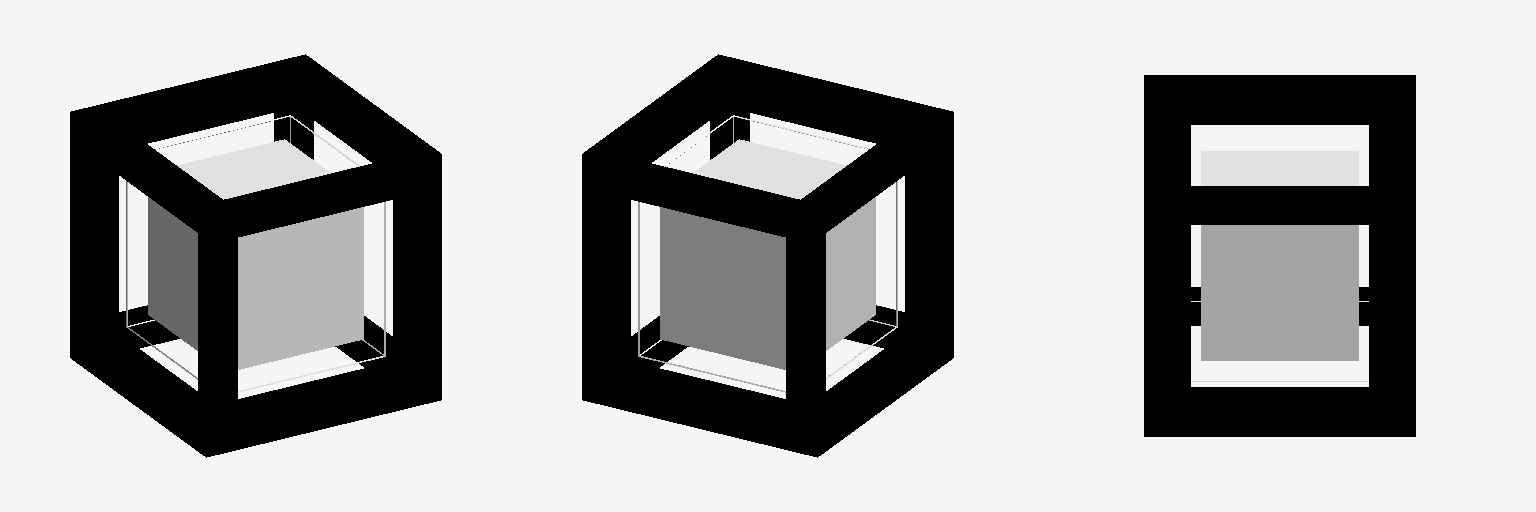
File: unity.obj
3 renders of one model, left to right at view 1: azimuth 30°, elevation 25°; view 2: azimuth 150°, elevation 25°; view 3: azimuth 270°, elevation 25°, orthographic.
Parts seen in each view (by area): view 1: unity_Cube.001; view 2: unity_Cube.001; view 3: unity_Cube.001.
Boxes of the visible parts, box(x1,y1,x2,y2) form: unity_Cube.001: box(70, 54, 441, 457); unity_Cube.001: box(582, 54, 953, 457); unity_Cube.001: box(1144, 75, 1415, 436).
Size of the model in its own units: 2.47 by 2.47 by 2.47.